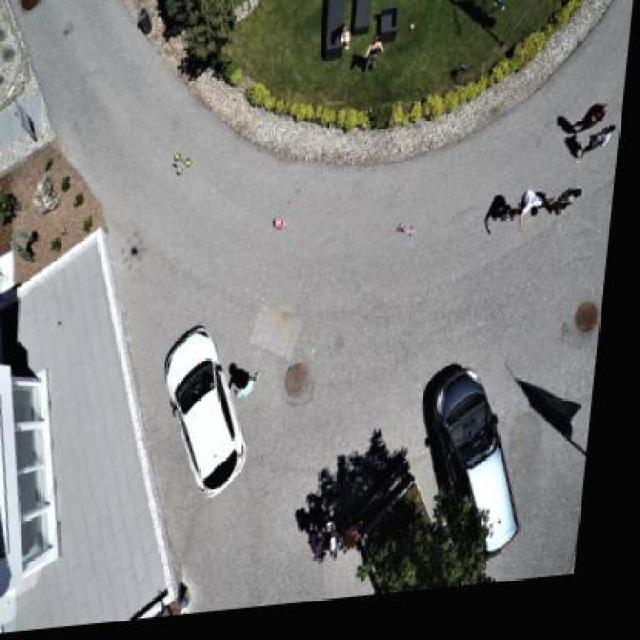Person: (574, 132, 623, 180), (236, 371, 284, 411), (517, 194, 558, 240), (568, 108, 620, 144), (356, 41, 393, 85), (552, 193, 598, 225), (332, 22, 361, 64)
